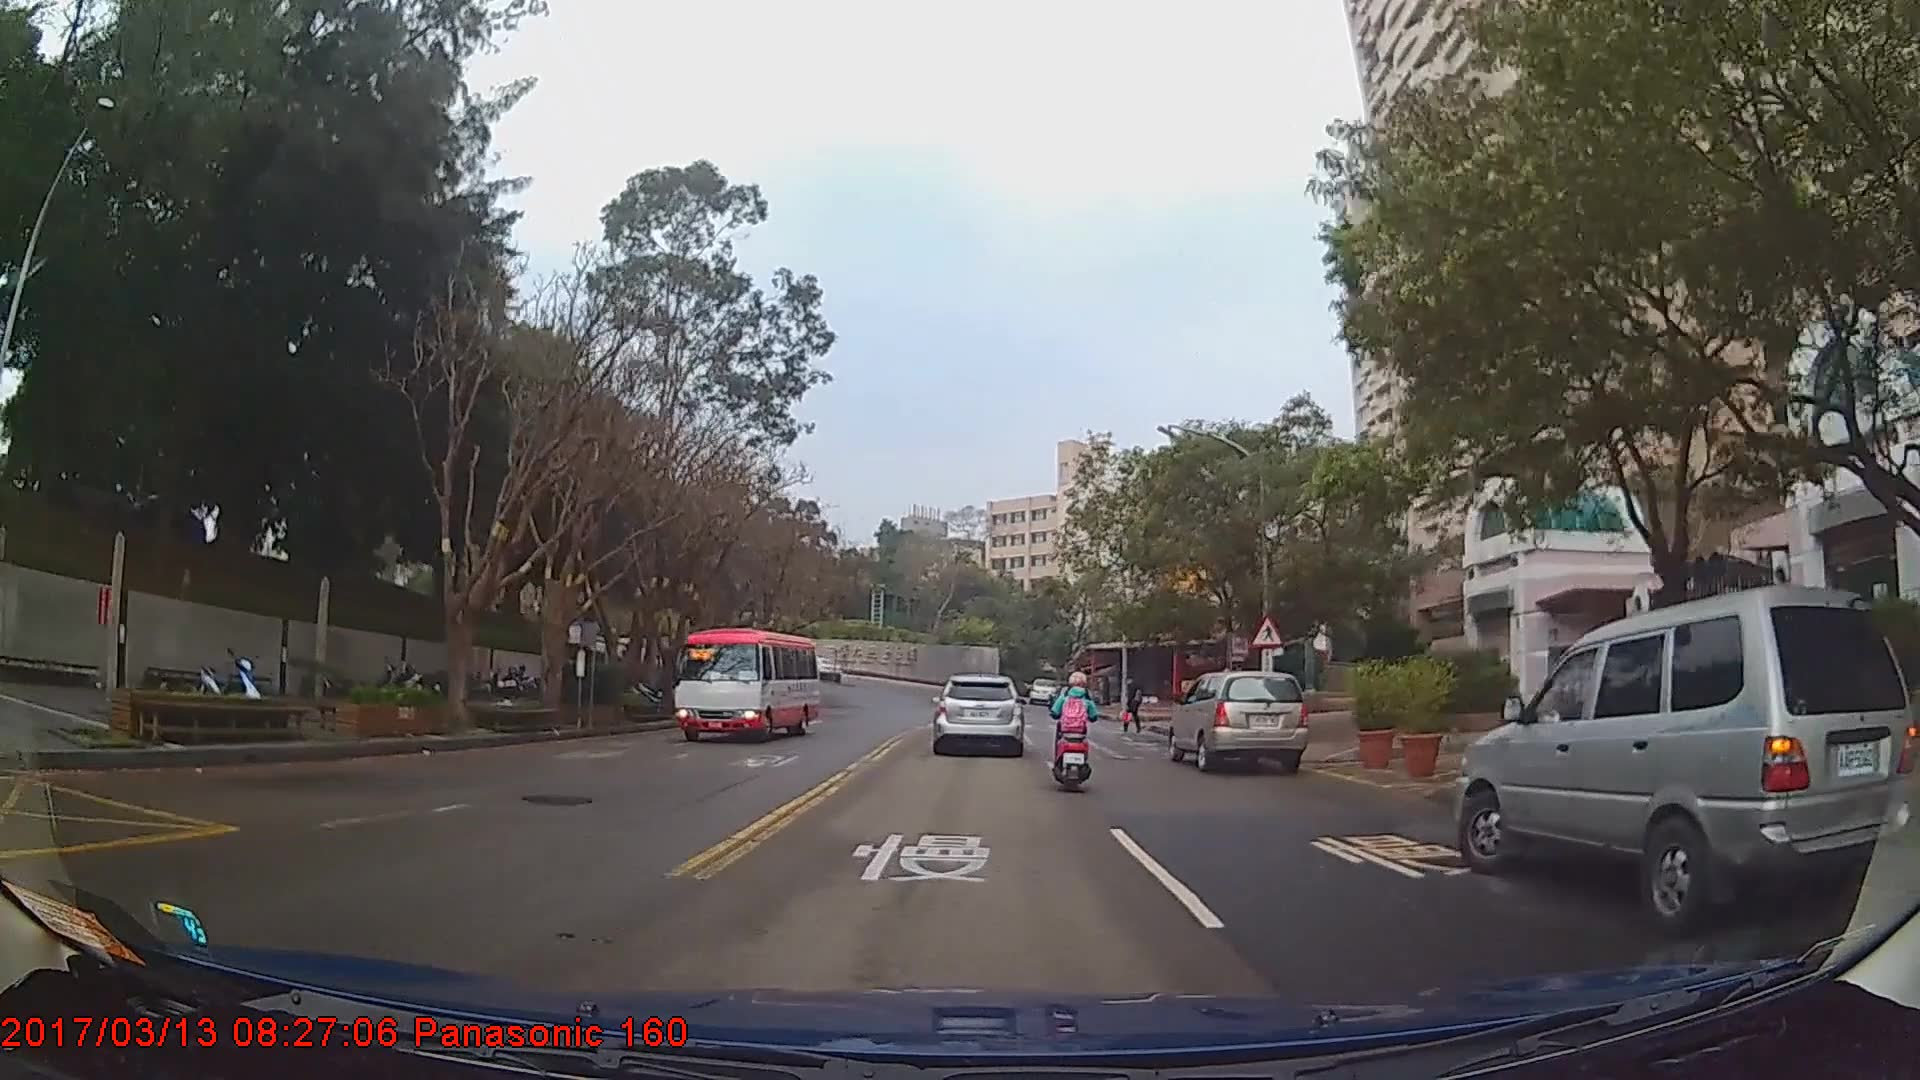pedestrian: (1120, 672, 1145, 736)
rider: (1048, 665, 1103, 795)
vehicle: (1457, 581, 1920, 930), (674, 627, 820, 742), (1165, 669, 1308, 772), (929, 674, 1024, 757), (1027, 676, 1059, 703)
